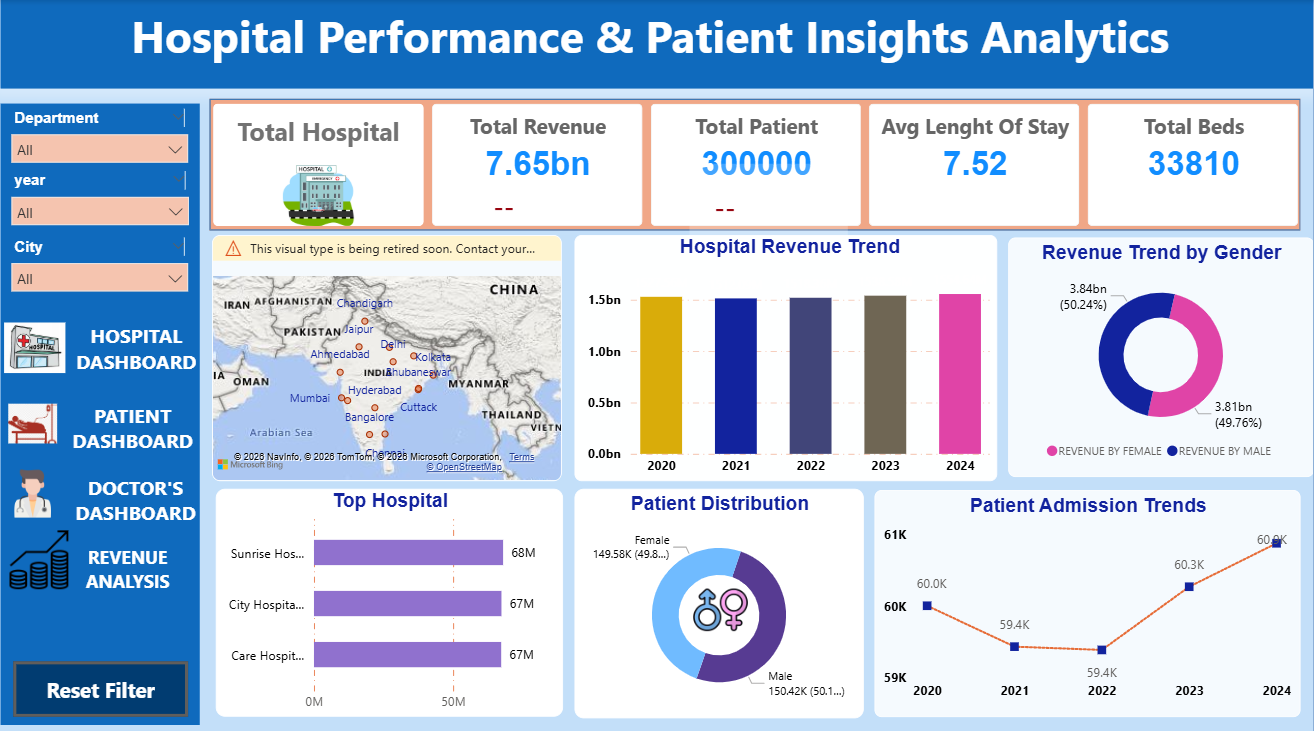

The dashboard page shown, as its layout file describes it:
{"tool":"powerbi","page":{"name":"HOME","canvas":[1280,720],"ordinal":0},"visuals":[{"type":"shape","box":[13.5,0,1266.9,85.6],"z":0},{"type":"slicer","fields":{"Values":["india_hospital_patients_300k_updated.Department"]},"box":[13.6,100,190.8,65.1],"z":0,"group":"g2"},{"type":"actionButton","box":[50.7,507.9,170.1,82],"z":0,"group":"g3"},{"type":"textbox","box":[0,0,1280.3,85.1],"z":1000},{"type":"slicer","fields":{"Values":["calender.year"]},"box":[13.6,160.5,191.4,65.4],"z":1000,"group":"g2"},{"type":"group","id":"g1","title":"Group 4","box":[15.7,294.4,203.9,229.7],"z":1000,"group":"g3"},{"type":"shape","box":[13.3,100.1,191.8,599.6],"z":2000},{"type":"slicer","fields":{"Values":["india_hospitals.City"]},"box":[13.6,224.5,190.8,65.1],"z":2000,"group":"g2"},{"type":"image","box":[21.5,507.9,56.7,65.1],"z":2000,"group":"g3"},{"type":"shape","box":[214.8,95.1,1053.1,127.2],"z":3000},{"type":"actionButton","box":[68.8,294.4,150.8,83.2],"z":3000,"group":"g1"},{"type":"cardVisual","fields":{"Data":["india_hospitals.Total Hospital","india_hospitals.Total Revenue","india_hospitals.Total Patient","india_hospitals.Avg Lenght Of Stay","india_hospitals.Total Beds"]},"box":[218.5,100,1049.4,118.5],"z":4000},{"type":"image","box":[15.7,311.5,60.9,49.2],"z":4000,"group":"g6"},{"type":"group","id":"g2","title":"Group 2","box":[13.6,100,191.4,190.1],"z":5000},{"type":"actionButton","box":[67.2,370.5,146.3,84.8],"z":5000,"group":"g6"},{"type":"cardVisual","fields":{"Data":["india_hospitals.Revenue growth strip"]},"box":[459.3,159.3,153.1,74.1],"z":6000},{"type":"image","box":[20.4,445.5,46.8,62.7],"z":6000,"group":"g6"},{"type":"cardVisual","fields":{"Data":["india_hospitals.patient revenue py"]},"box":[677.8,158,153.1,74.1],"z":7000},{"type":"columnChart","title":"Hospital Revenue Trend","fields":{"Category":["calender.year"],"Y":["india_hospitals.Total Revenue"]},"box":[566.4,226.6,408.1,237.4],"z":8000},{"type":"image","box":[20.4,377.9,46.8,62.7],"z":8000,"group":"g6"},{"type":"map","fields":{"Category":["india_hospitals.City"]},"box":[216.8,226.4,337.6,237.4],"z":9000},{"type":"actionButton","box":[67.3,442.1,152,82],"z":9000,"group":"g5"},{"type":"barChart","title":"Top Hospital","fields":{"Category":["india_hospitals.Hospital_Name"],"Y":["india_hospitals.Total Revenue"]},"box":[220.4,471.8,335.2,220.4],"z":10000},{"type":"lineChart","title":"Patient Admission Trends","fields":{"Y":["india_hospitals.Total Patient"],"Category":["calender.year","calender.month"]},"box":[856.6,473.3,411.3,218.8],"z":11000},{"type":"group","id":"g3","title":"Group 5","box":[15.7,294.4,205.1,295.6],"z":12000},{"type":"donutChart","title":"Revenue Trend by Gender","fields":{"Y":["patients.REVENUE BY FEMALE","patients.REVENUE BY MALE"]},"box":[985.5,229.7,294.9,231.2],"z":13000},{"type":"donutChart","title":"Patient Distribution","fields":{"Y":["india_hospitals.Total Patient"],"Category":["patients.Gender"]},"box":[566.9,471.7,279.3,221.9],"z":14000,"group":"g4"},{"type":"actionButton","box":[25.7,638.3,168.8,53.8],"z":14000},{"type":"group","id":"g4","title":"Group 6","box":[566.9,471.7,279.3,221.9],"z":15000},{"type":"image","box":[672.4,561.7,71.4,52.8],"z":15000,"group":"g4"},{"type":"group","id":"g5","title":"Group 1","box":[15.7,311.5,203.6,212.6],"z":18000,"group":"g1"},{"type":"group","id":"g6","title":"Group 3","box":[15.7,311.5,197.9,196.6],"z":18001,"group":"g5"}]}

Visuals, with their boxes in screenshot pixels (x1, y1, x2, y2), scaled from the page's 1280x720 canvas onto the 1314x731 screenshot:
shape: bbox=(14, 0, 1313, 87)
slicer - india_hospital_patients_300k_updated.Department: bbox=(14, 102, 210, 168)
actionButton: bbox=(52, 516, 227, 599)
textbox: bbox=(0, 0, 1313, 86)
slicer - calender.year: bbox=(14, 163, 210, 229)
"Group 4" group: bbox=(16, 299, 225, 532)
shape: bbox=(14, 102, 211, 710)
slicer - india_hospitals.City: bbox=(14, 228, 210, 294)
image: bbox=(22, 516, 80, 582)
shape: bbox=(221, 97, 1302, 226)
actionButton: bbox=(71, 299, 225, 383)
cardVisual - india_hospitals.Total Hospital x india_hospitals.Total Revenue: bbox=(224, 102, 1302, 222)
image: bbox=(16, 316, 79, 366)
"Group 2" group: bbox=(14, 102, 210, 295)
actionButton: bbox=(69, 376, 219, 462)
cardVisual - india_hospitals.Revenue growth strip: bbox=(472, 162, 629, 237)
image: bbox=(21, 452, 69, 516)
cardVisual - india_hospitals.patient revenue py: bbox=(696, 160, 853, 236)
"Hospital Revenue Trend" columnChart: bbox=(581, 230, 1000, 471)
image: bbox=(21, 384, 69, 447)
map - india_hospitals.City: bbox=(223, 230, 569, 471)
actionButton: bbox=(69, 449, 225, 532)
"Top Hospital" barChart: bbox=(226, 479, 570, 703)
"Patient Admission Trends" lineChart: bbox=(879, 481, 1302, 703)
"Group 5" group: bbox=(16, 299, 227, 599)
"Revenue Trend by Gender" donutChart: bbox=(1012, 233, 1313, 468)
"Patient Distribution" donutChart: bbox=(582, 479, 869, 704)
actionButton: bbox=(26, 648, 200, 703)
"Group 6" group: bbox=(582, 479, 869, 704)
image: bbox=(690, 570, 764, 624)
"Group 1" group: bbox=(16, 316, 225, 532)
"Group 3" group: bbox=(16, 316, 219, 516)
